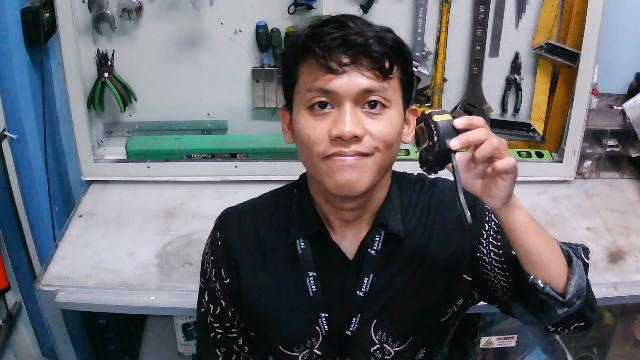meteran: (411, 104, 475, 222)
